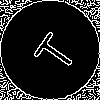T: (25, 25, 80, 77)
